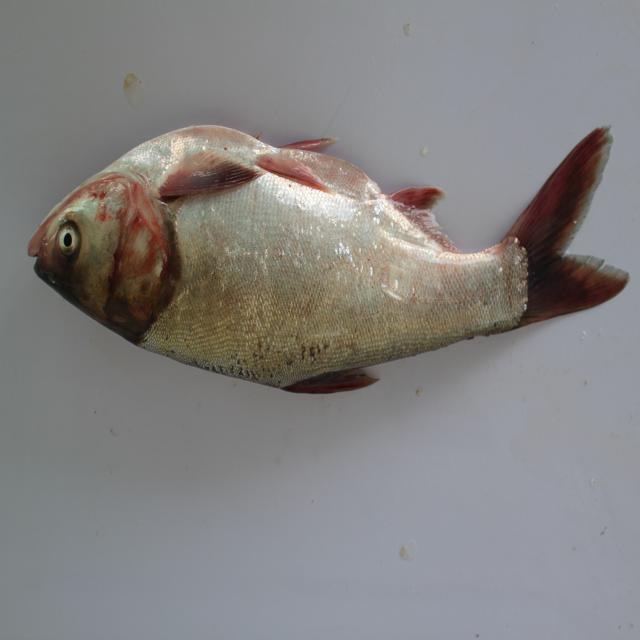SilverCarp: (40, 121, 614, 379)
